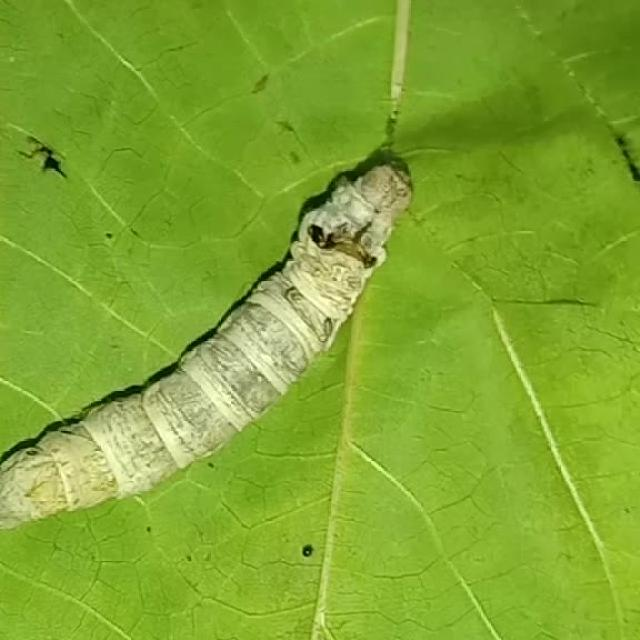Grasserie: (8, 146, 450, 586)
